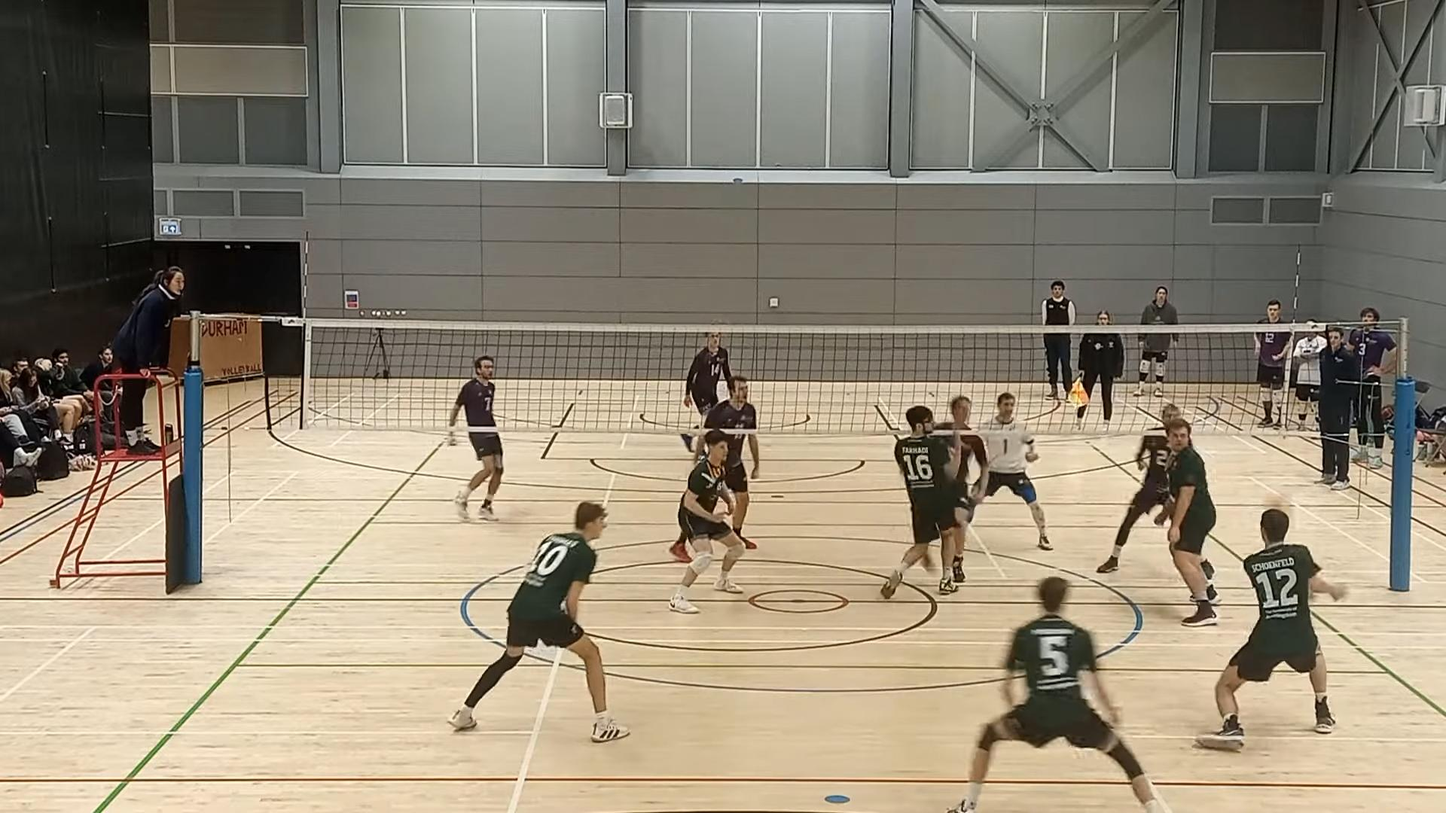ricezione: (1196, 503, 1351, 754)
